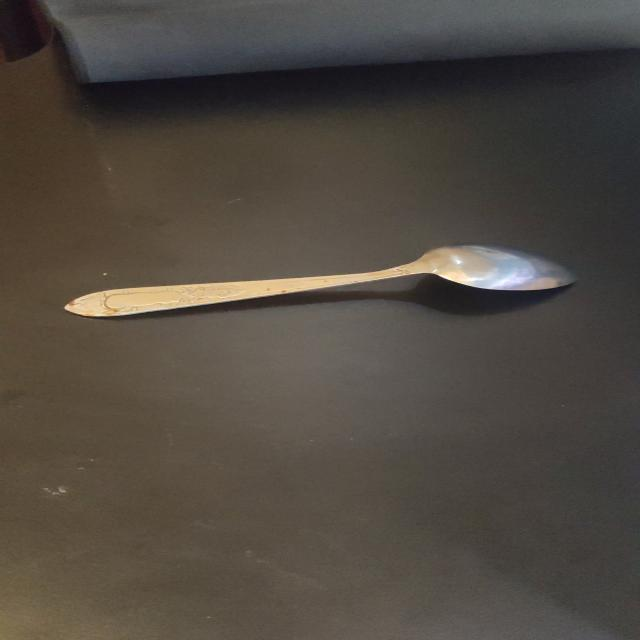plastic utensil: (64, 246, 573, 316)
